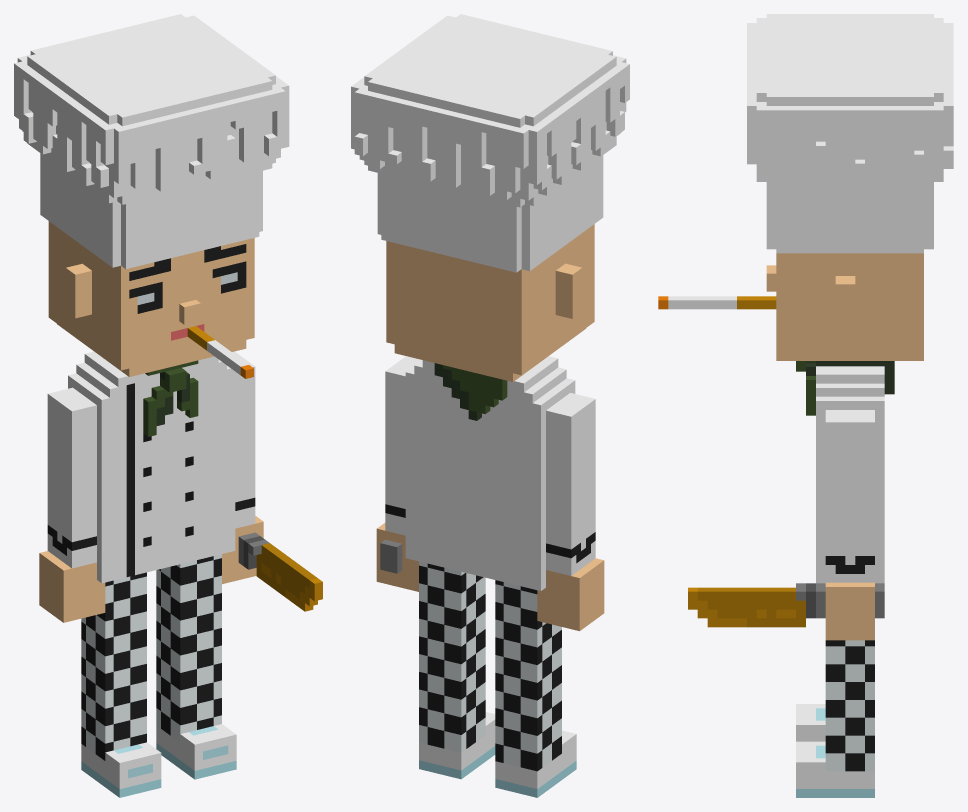
The model's file is chef.obj.
3 renders of one model, left to right at view 1: azimuth 30°, elevation 25°; view 2: azimuth 150°, elevation 25°; view 3: azimuth 270°, elevation 25°, orthographic. The views are drawn at different scales.
Size of the model in its own units: 2.4 by 8 by 3.
